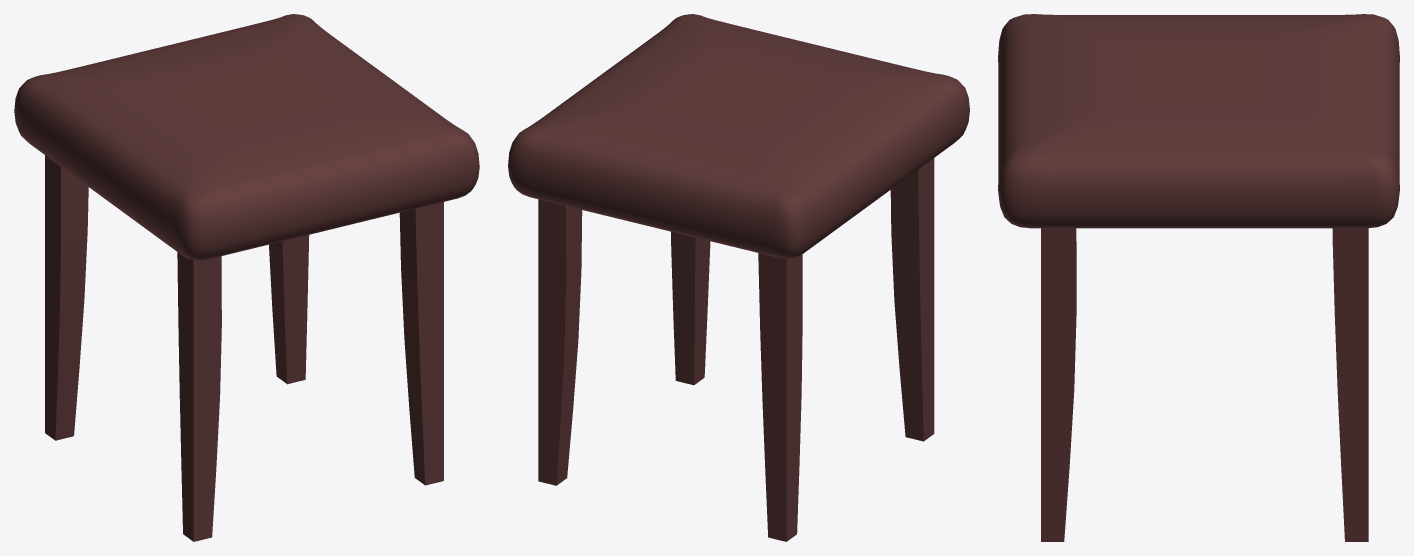
Rendered from Tabouret6_5.fbx.
3 views of the same model, side by side, from view 1: azimuth 30°, elevation 25°; view 2: azimuth 150°, elevation 25°; view 3: azimuth 270°, elevation 25° (orthographic). The views are drawn at different scales.
Visible parts, largest first — view 1: pCube2647, polySurface996, polySurface994, polySurface995, polySurface993; view 2: pCube2647, polySurface995, polySurface993, polySurface996, polySurface994; view 3: pCube2647, polySurface994, polySurface993.
Boxes of the visible parts, bbox=[...] form: pCube2647: bbox=[14, 14, 479, 260]; polySurface996: bbox=[177, 252, 221, 541]; polySurface994: bbox=[399, 202, 443, 485]; polySurface995: bbox=[45, 155, 88, 440]; polySurface993: bbox=[269, 235, 309, 384]; pCube2647: bbox=[508, 14, 969, 258]; polySurface995: bbox=[758, 253, 802, 541]; polySurface993: bbox=[538, 199, 582, 485]; polySurface996: bbox=[890, 158, 934, 441]; polySurface994: bbox=[671, 231, 710, 385]; pCube2647: bbox=[998, 14, 1399, 228]; polySurface994: bbox=[1041, 228, 1076, 541]; polySurface993: bbox=[1332, 228, 1368, 541].
Size of the model in its own units: 38.55 by 44.75 by 40.86.
